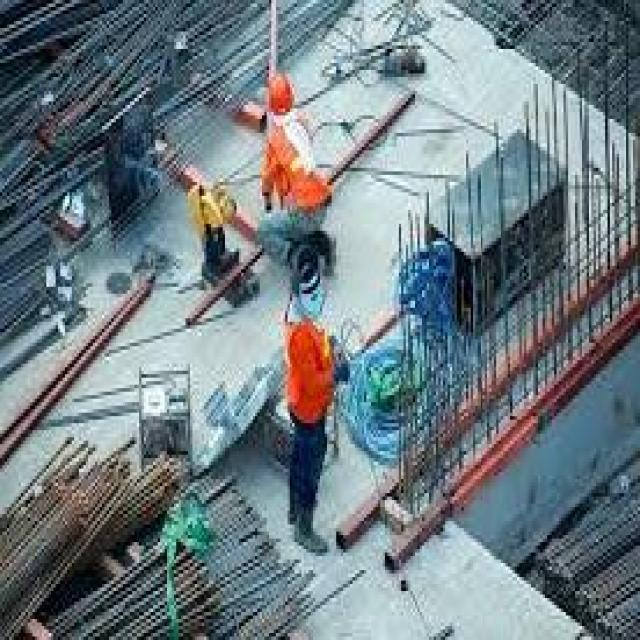Reflective-Jacket: (276, 314, 341, 434)
Safety-Helmet: (260, 66, 301, 122)
